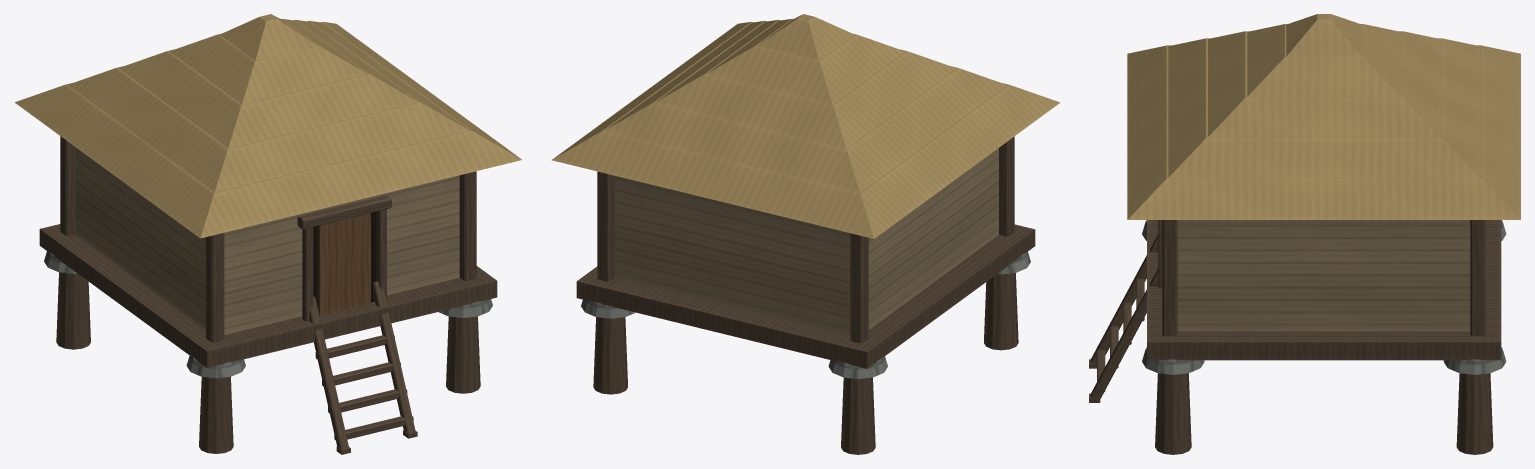
The model's file is prehistoric-granary.glb.
The picture shows the model from 3 angles, left to right: view 1: azimuth 30°, elevation 25°; view 2: azimuth 150°, elevation 25°; view 3: azimuth 270°, elevation 25°; orthographic projection. The views are drawn at different scales.
Visible parts, largest first — view 1: prehistoric-granary; view 2: prehistoric-granary; view 3: prehistoric-granary.
Boxes of the visible parts, x1,y1,x2,y2 form: prehistoric-granary: (15, 14, 521, 454); prehistoric-granary: (551, 14, 1060, 454); prehistoric-granary: (1089, 14, 1520, 454).
Size of the model in its own units: 0.7836 by 0.8055 by 0.86.
Materials: 1 (1 with a texture image).
